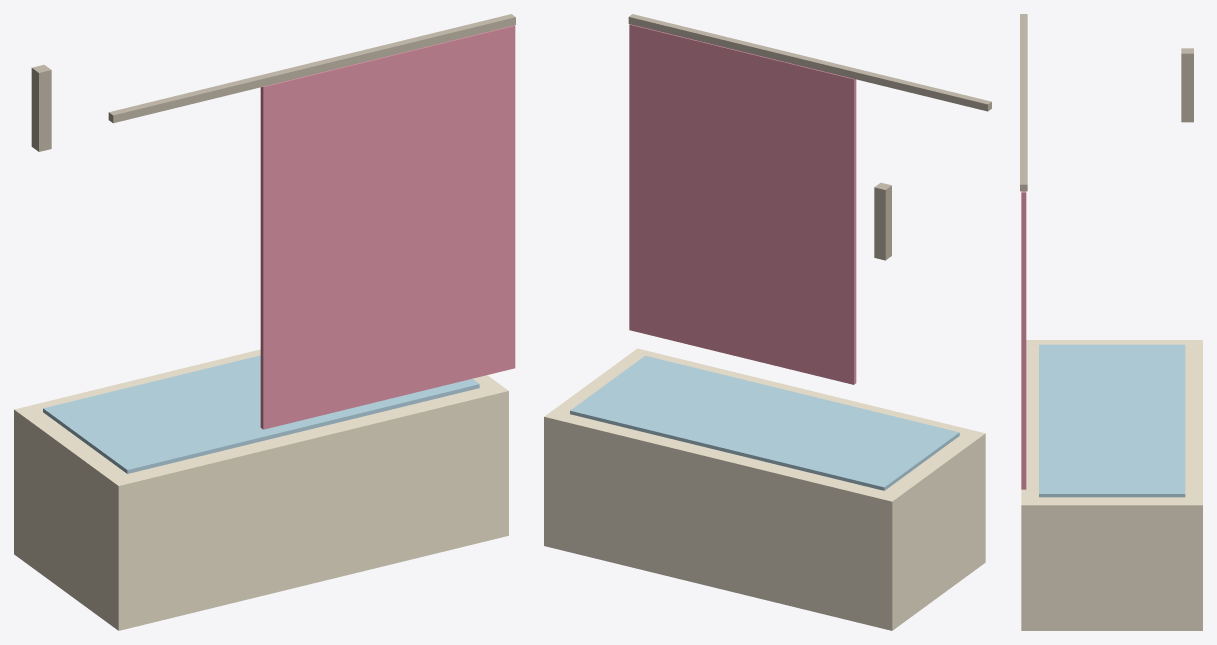
File: tub.glb
The picture shows the model from 3 angles, left to right: view 1: azimuth 30°, elevation 25°; view 2: azimuth 150°, elevation 25°; view 3: azimuth 270°, elevation 25°; orthographic projection. The views are drawn at different scales.
Visible parts, largest first — view 1: Box5, Box1, Box2, Box4, Box3; view 2: Box5, Box1, Box2, Box4, Box3; view 3: Box1, Box2, Box5, Box4, Box3.
Part boxes in pixels (x1=…): Box5: x1=260, y1=25, x2=515, y2=429; Box1: x1=14, y1=349, x2=508, y2=630; Box2: x1=43, y1=355, x2=479, y2=473; Box4: x1=108, y1=14, x2=515, y2=123; Box3: x1=31, y1=64, x2=51, y2=151; Box5: x1=629, y1=24, x2=856, y2=384; Box1: x1=544, y1=348, x2=985, y2=630; Box2: x1=570, y1=355, x2=959, y2=490; Box4: x1=628, y1=14, x2=991, y2=111; Box3: x1=874, y1=182, x2=891, y2=260; Box1: x1=1021, y1=340, x2=1202, y2=630; Box2: x1=1039, y1=344, x2=1185, y2=497; Box5: x1=1021, y1=191, x2=1026, y2=489; Box4: x1=1020, y1=14, x2=1027, y2=191; Box3: x1=1181, y1=48, x2=1193, y2=122.
Bounding box in the file's own units: 1.6 × 1.97 × 0.725.
